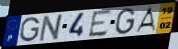4: (67, 11, 87, 40)
A: (134, 6, 157, 33)
E: (87, 9, 113, 39)
G: (114, 7, 137, 36), (19, 16, 41, 43)
N: (37, 13, 66, 43)
